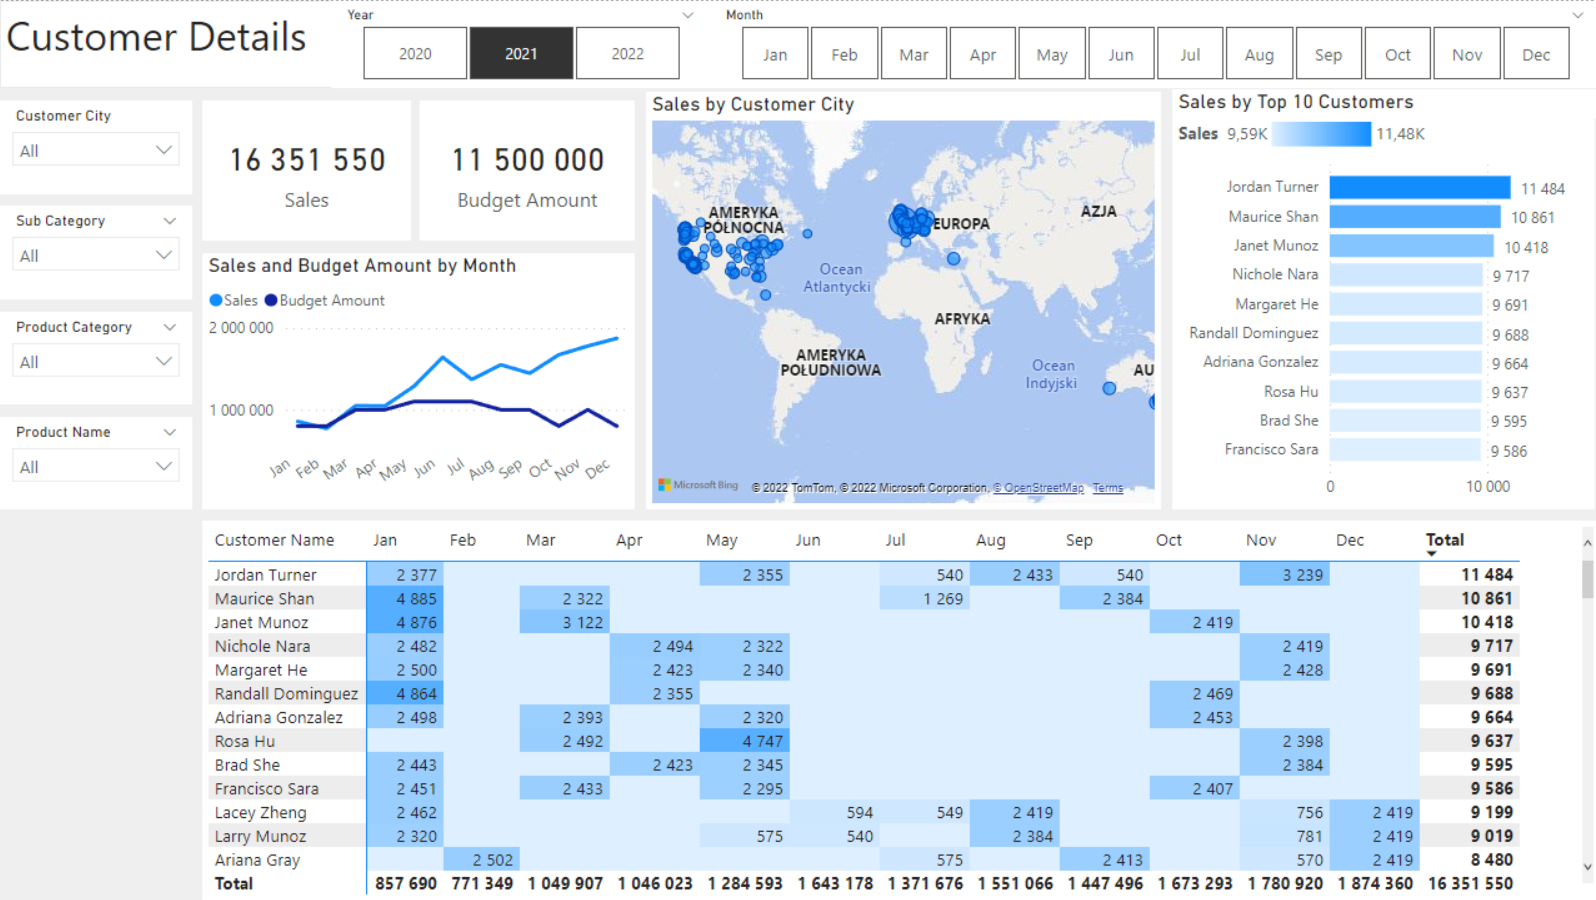

The dashboard page shown, as its layout file describes it:
{"tool":"powerbi","page":{"name":"Customer Details","canvas":[1280,720],"ordinal":1},"visuals":[{"type":"textbox","box":[0,0,1280,70.3],"z":0},{"type":"slicer","fields":{"Values":["DIM_Customer.Customer City"]},"box":[0,80.2,153.6,74.3],"z":1000},{"type":"slicer","fields":{"Values":["DIM_Products.Sub Category"]},"box":[0,164.5,153.6,74.3],"z":2000},{"type":"slicer","fields":{"Values":["DIM_Products.Product Category"]},"box":[0,248.7,153.6,74.3],"z":3000},{"type":"slicer","fields":{"Values":["DIM_Products.Product Name"]},"box":[0,332.9,153.6,74.3],"z":4000},{"type":"slicer","fields":{"Values":["DIM_Calendar.Year"]},"box":[264.5,0,303.6,70.1],"z":5000},{"type":"slicer","fields":{"Values":["DIM_Calendar.MonthShort"]},"box":[568.1,0,711.9,70.1],"z":6000},{"type":"lineChart","fields":{"Y":["Measures (2).Sales","Measures (2).Budget Amount"],"Category":["DIM_Calendar.MonthShort"]},"box":[162.4,202.4,345.3,205],"z":12000},{"type":"barChart","title":"Sales by Top 10 Customers","fields":{"Category":["DIM_Customer.Full Name"],"Y":["Measures (2).Sales"]},"box":[938.3,71,337.3,336.4],"z":13000},{"type":"map","fields":{"Category":["DIM_Customer.Customer City"],"Size":["Measures (2).Sales"]},"box":[516.6,72.8,412.8,334.6],"z":15000},{"type":"pivotTable","fields":{"Rows":["DIM_Customer.Full Name"],"Columns":["DIM_Calendar.MonthShort"],"Values":["Measures (2).Sales"]},"box":[162.4,416.3,1117.6,303.6],"z":15001},{"type":"card","fields":{"Values":["Measures (2).Sales"]},"box":[162.4,79.9,166.9,111.8],"z":15002},{"type":"card","fields":{"Values":["Measures (2).Budget Amount"]},"box":[335.5,79.9,172.2,111.8],"z":15003}]}

Visuals, with their boxes in screenshot pixels (x1, y1, x2, y2), scaled from the page's 1280x720 canvas onto the 1596x900 screenshot:
textbox: x1=0 y1=0 x2=1595 y2=88
slicer - DIM_Customer.Customer City: x1=0 y1=100 x2=192 y2=193
slicer - DIM_Products.Sub Category: x1=0 y1=206 x2=192 y2=298
slicer - DIM_Products.Product Category: x1=0 y1=311 x2=192 y2=404
slicer - DIM_Products.Product Name: x1=0 y1=416 x2=192 y2=509
slicer - DIM_Calendar.Year: x1=330 y1=0 x2=708 y2=88
slicer - DIM_Calendar.MonthShort: x1=708 y1=0 x2=1595 y2=88
lineChart - Measures (2).Sales x Measures (2).Budget Amount: x1=202 y1=253 x2=633 y2=509
"Sales by Top 10 Customers" barChart: x1=1170 y1=89 x2=1591 y2=509
map - DIM_Customer.Customer City x Measures (2).Sales: x1=644 y1=91 x2=1159 y2=509
pivotTable - DIM_Customer.Full Name x DIM_Calendar.MonthShort: x1=202 y1=520 x2=1595 y2=899
card - Measures (2).Sales: x1=202 y1=100 x2=411 y2=240
card - Measures (2).Budget Amount: x1=418 y1=100 x2=633 y2=240
